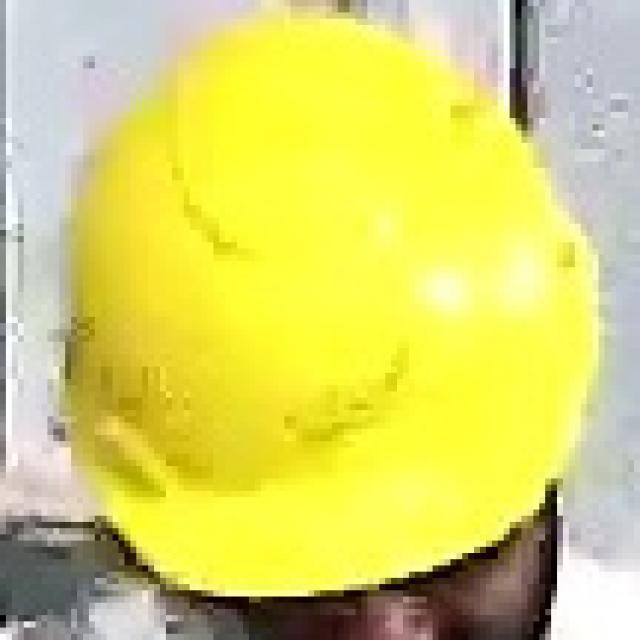yellow helmet: (58, 13, 611, 606)
